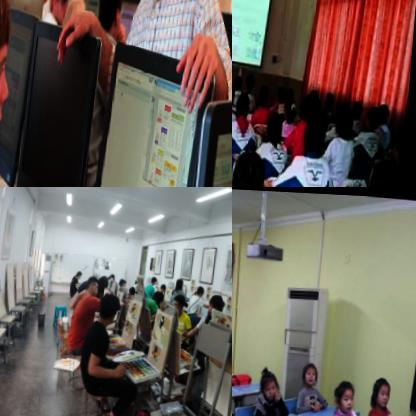head: (0, 0, 31, 173), (232, 144, 270, 187), (370, 145, 406, 187), (100, 0, 132, 38), (306, 103, 331, 151), (100, 288, 124, 326), (335, 376, 360, 411), (372, 373, 397, 407), (336, 95, 358, 132), (260, 368, 283, 401), (267, 107, 289, 139), (302, 356, 323, 385), (210, 291, 230, 317), (238, 88, 254, 117), (52, 0, 73, 22), (367, 96, 383, 124), (378, 93, 394, 120), (302, 87, 316, 113), (87, 275, 104, 296), (259, 77, 273, 100), (286, 94, 300, 114), (354, 92, 366, 115), (175, 291, 189, 309), (277, 78, 289, 98), (246, 67, 258, 85), (326, 86, 338, 104), (101, 271, 113, 287), (234, 71, 245, 87), (197, 282, 209, 296), (287, 81, 297, 97), (232, 81, 238, 104), (179, 275, 188, 288), (153, 273, 160, 287), (132, 284, 140, 296), (162, 281, 169, 290), (123, 276, 130, 284), (78, 269, 84, 278)
